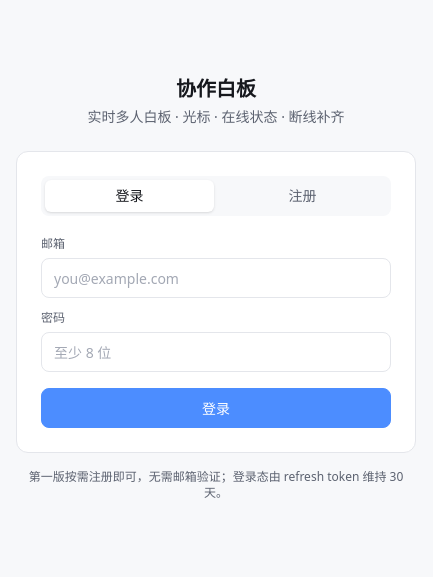
登录 / 注册页 › 重复邮箱：错误提示走错误码映射的中文文案
The width and height of the screenshot is (433, 577).
Click the button "注册" at (302, 196), box [218, 180, 387, 212]
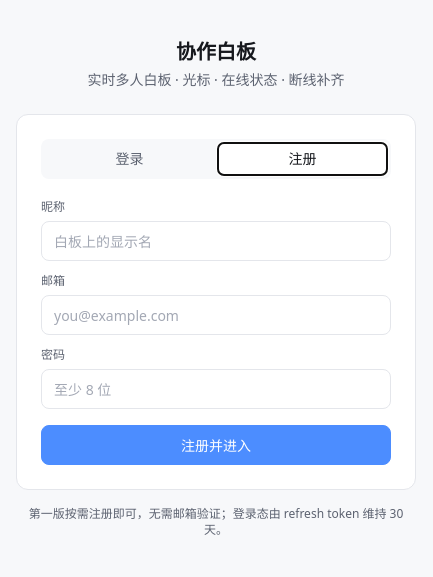
Type "用户A" into the field labelled "昵称" at (216, 241), box [41, 221, 391, 261]
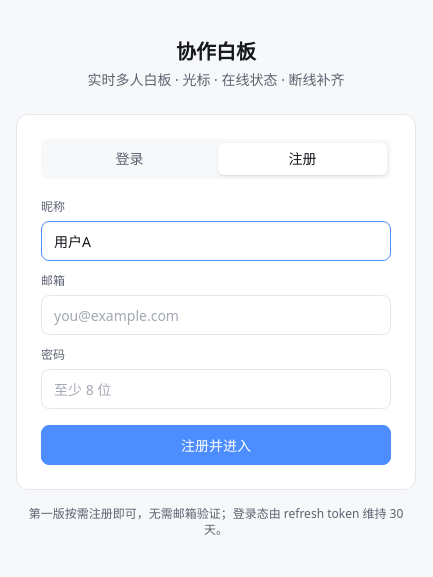
Type "a@b.c" into the field labelled "邮箱" at (216, 315), box [41, 295, 391, 335]
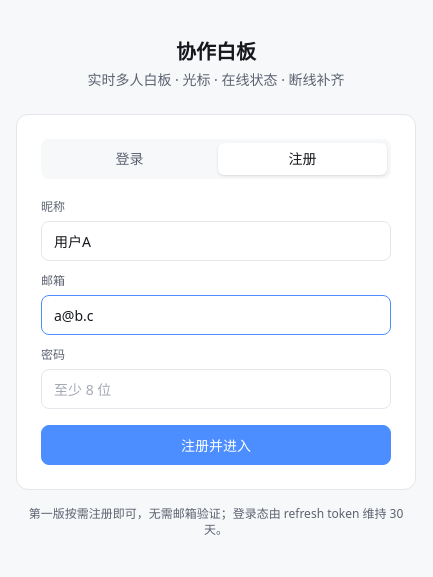
Type "password1" into the password field labelled "密码" at (216, 389), box [41, 369, 391, 409]
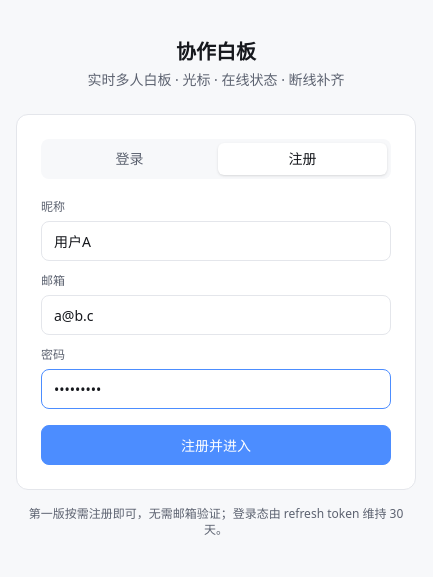
Click the button "注册并进入" at (216, 445), box [41, 425, 391, 465]
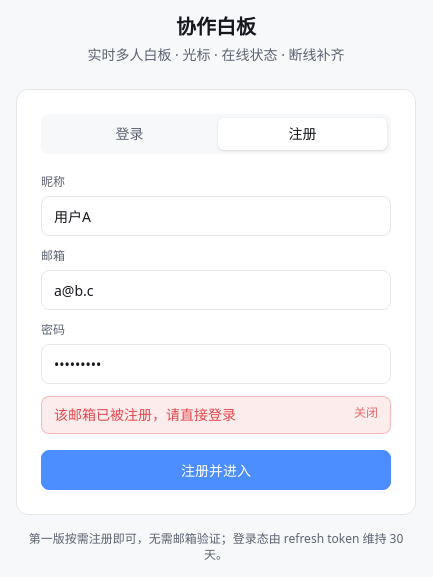
Now the message shows "该邮箱已被注册", box [54, 405, 236, 424]
